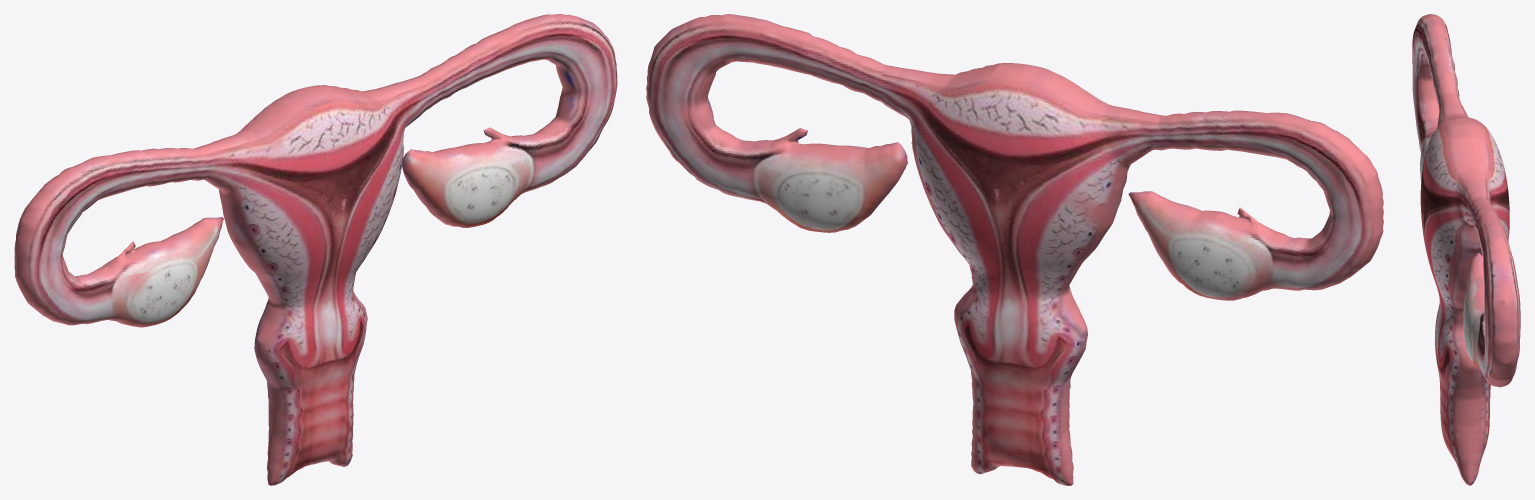
The model's file is organ_reproduksi_wanita.glb.
The picture shows the model from 3 angles, left to right: view 1: azimuth 30°, elevation 25°; view 2: azimuth 150°, elevation 25°; view 3: azimuth 270°, elevation 25°; orthographic projection. The views are drawn at different scales.
Parts seen in each view (by area): view 1: Object_5; view 2: Object_5; view 3: Object_5.
Part boxes in pixels (x1,y1,x2,y2): Object_5: (14,14,617,485); Object_5: (646,14,1383,485); Object_5: (1412,14,1520,485).
Bounding box in the file's own units: 0.83 × 0.4786 × 0.1367.
Materials: 1 (1 with a texture image).
